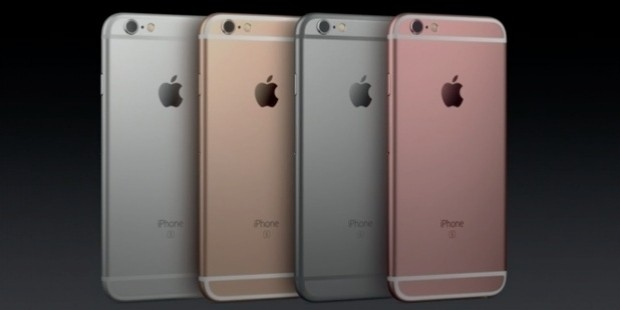apple: (246, 68, 290, 114), (149, 70, 192, 116), (342, 66, 383, 113), (431, 71, 472, 114)
